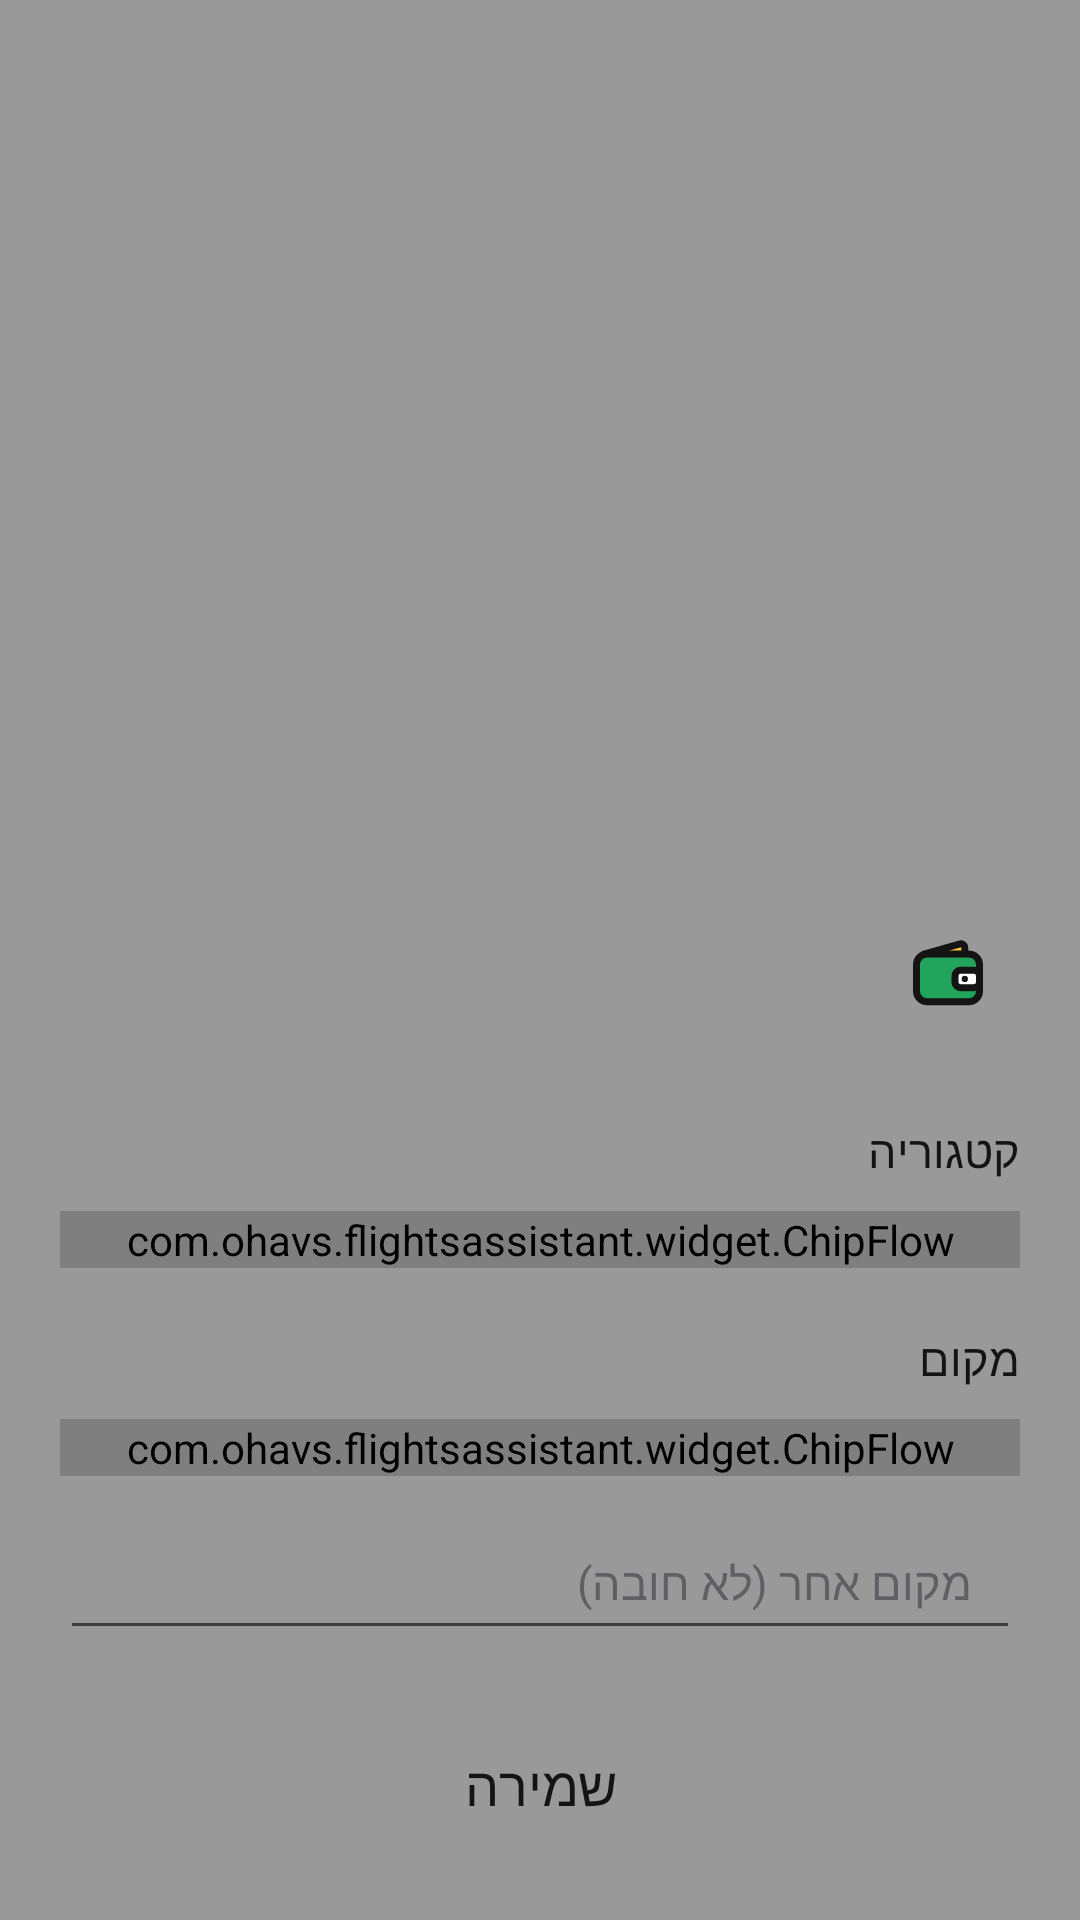

Icon bounding boxes for this 1080 × 1920 phone screenshot, format (x1, y1, x2, y2):
wallet: (913, 940, 983, 1006)
